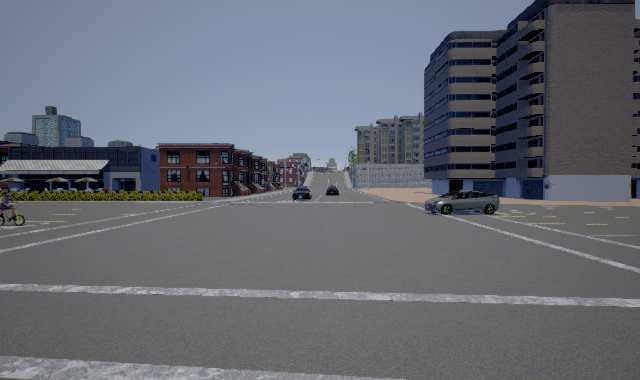bike: (1, 193, 28, 230)
vehicle: (424, 190, 500, 215), (290, 183, 314, 203), (324, 184, 342, 198)
